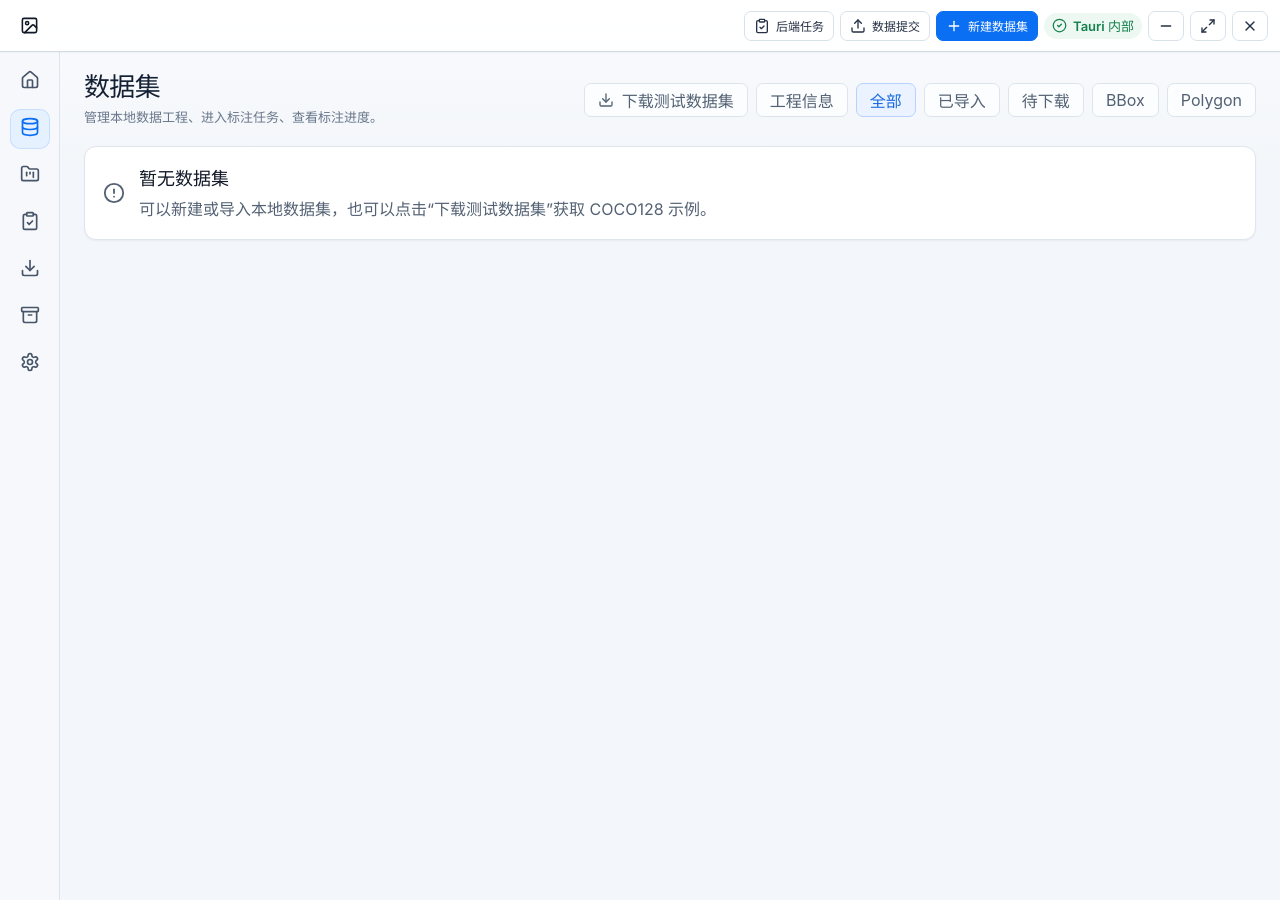
Test case: desktop shell › 点击首页下载按钮才下载测试数据，并阻止重复点击
Click the button "下载测试数据集" at (666, 100), box left=584, top=83, right=748, bottom=117
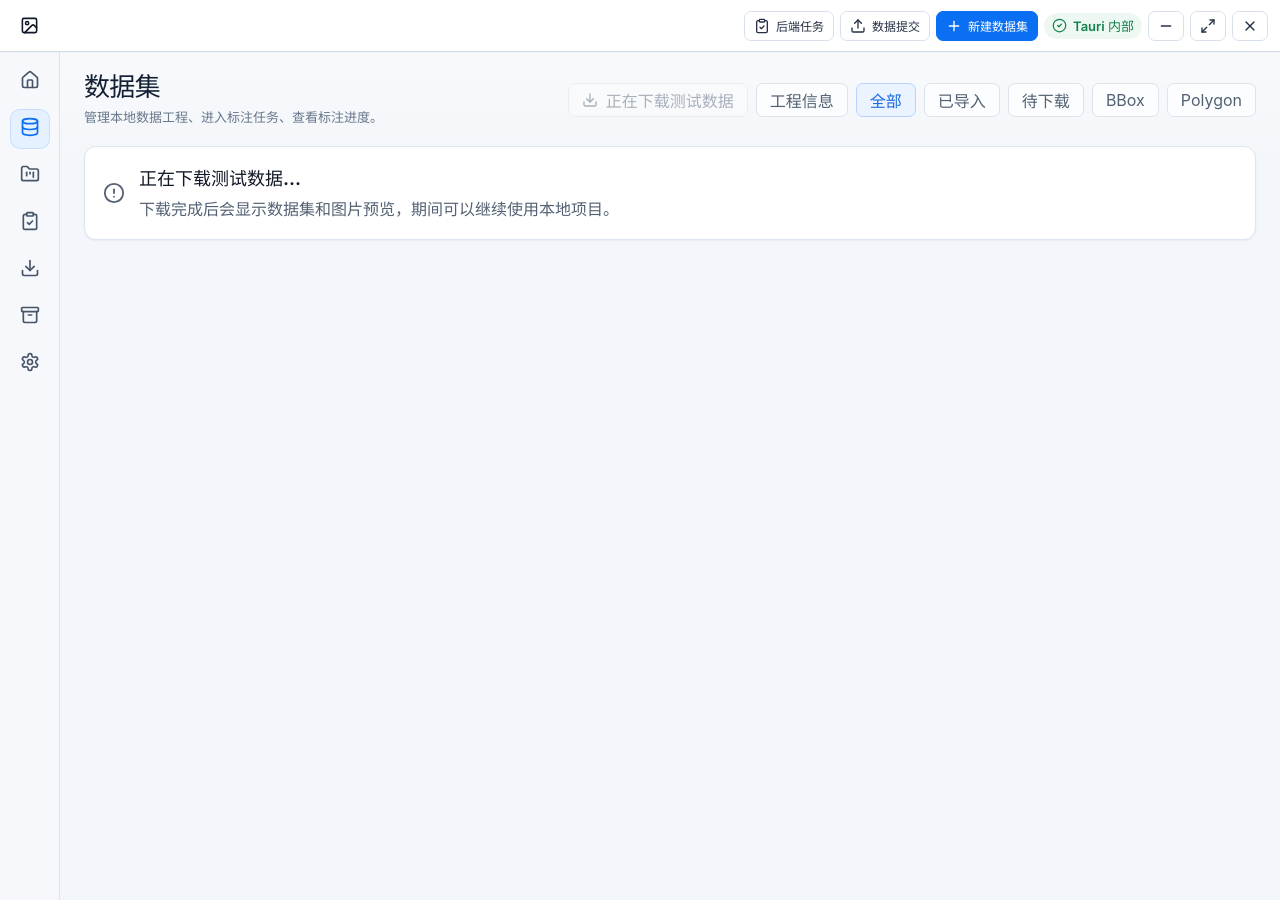
Expected: the button "正在下载测试数据" is disabled
Click the button "正在下载测试数据" at (658, 100), box left=568, top=83, right=748, bottom=117
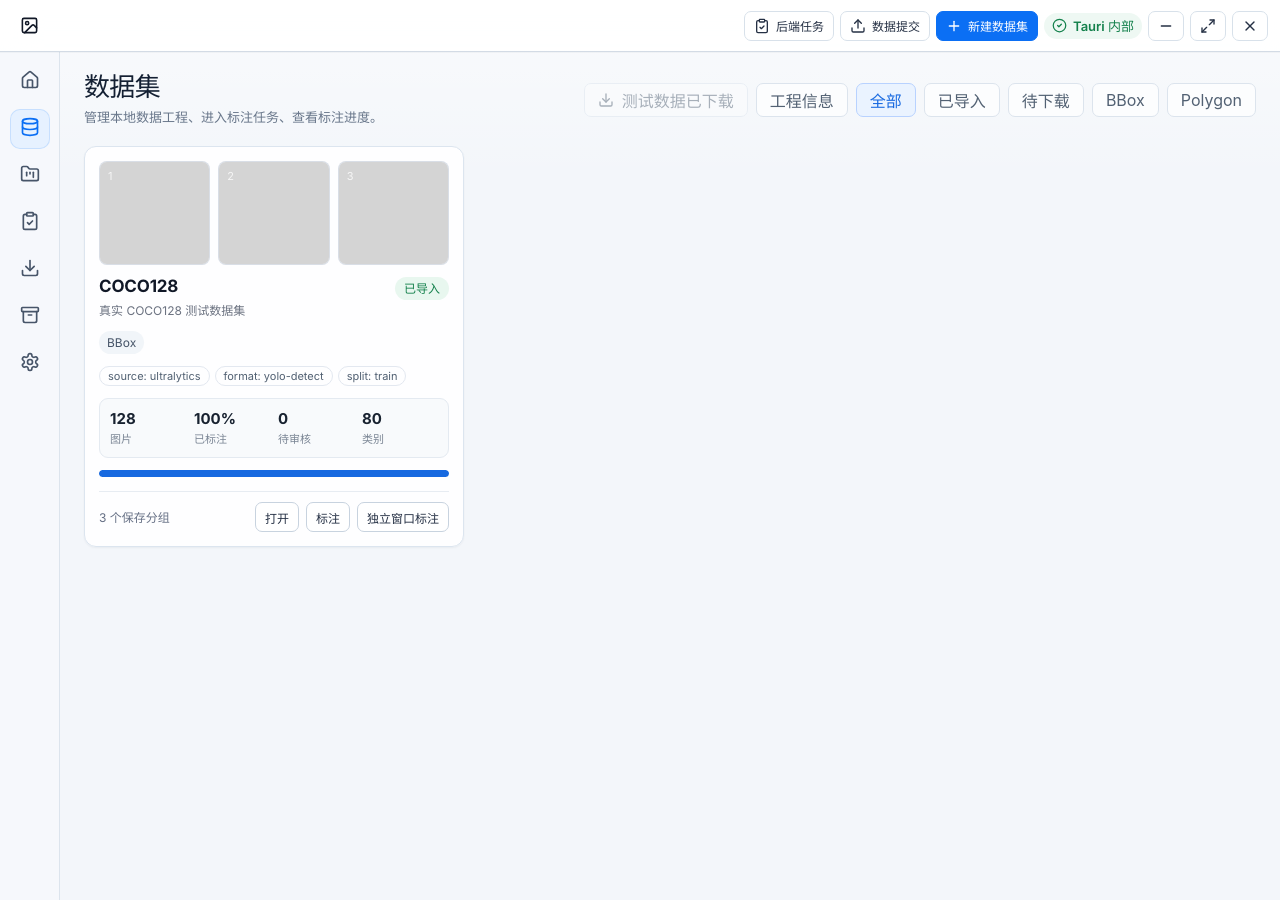
Expected: the button "测试数据已下载" is disabled, left=584, top=83, right=748, bottom=117
Expected: the button "标注" is shown, left=306, top=502, right=350, bottom=532
